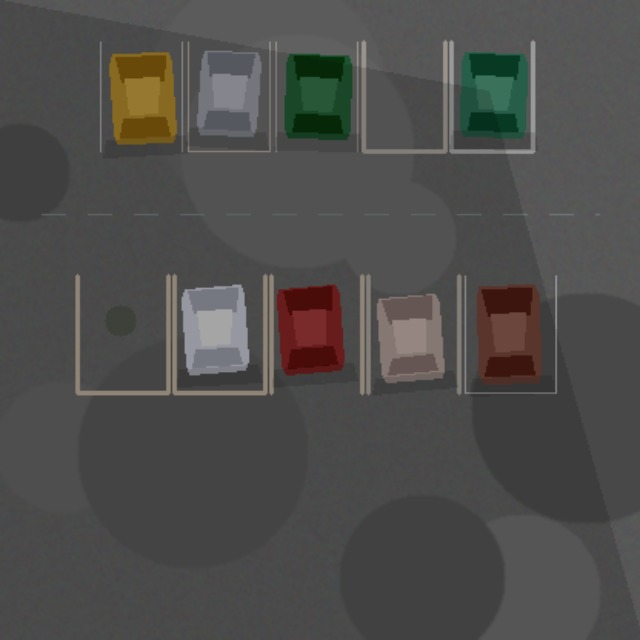space-empty: (77, 275, 168, 392), (363, 42, 445, 151)
space-occupied: (174, 275, 265, 392), (271, 275, 362, 392), (368, 275, 458, 392), (465, 275, 555, 392), (100, 42, 182, 151), (275, 42, 357, 151), (188, 42, 269, 151), (451, 42, 532, 151)
